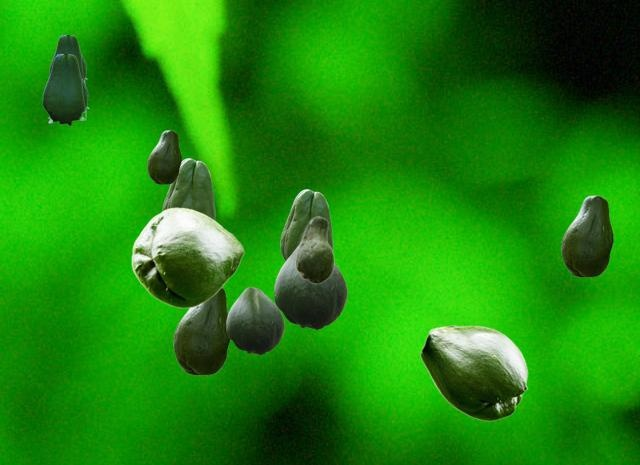sayote: (131, 207, 243, 307), (420, 325, 527, 420), (274, 247, 346, 329), (173, 287, 230, 374), (561, 195, 612, 276), (226, 287, 283, 354), (280, 189, 332, 260), (42, 54, 88, 126), (162, 158, 214, 218), (295, 216, 333, 283), (147, 130, 180, 183), (49, 35, 86, 82)
